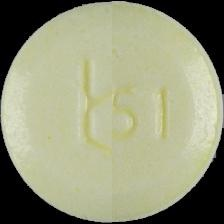0555-9012: (0, 0, 224, 224)
